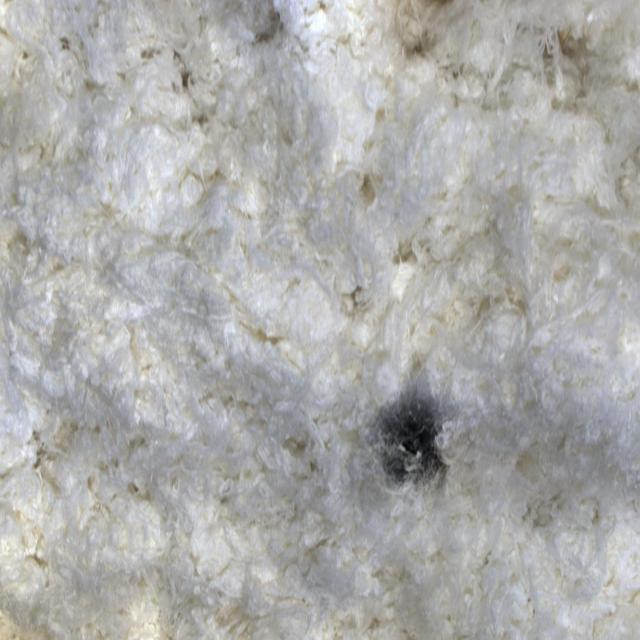dust: (340, 316, 497, 566)
